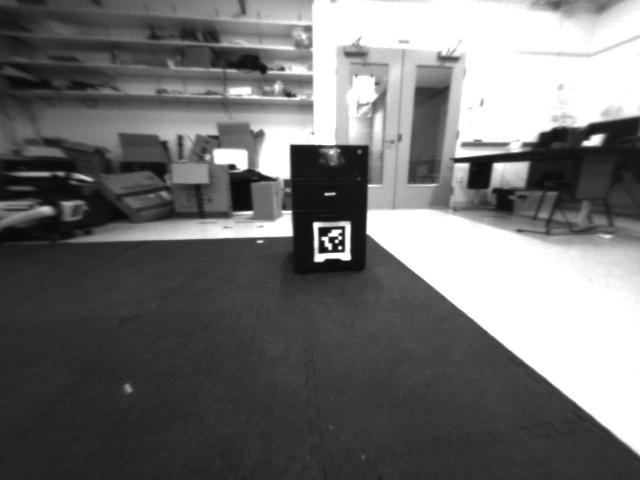door_handle: (380, 135, 400, 150)
drawer: (312, 142, 349, 172)
